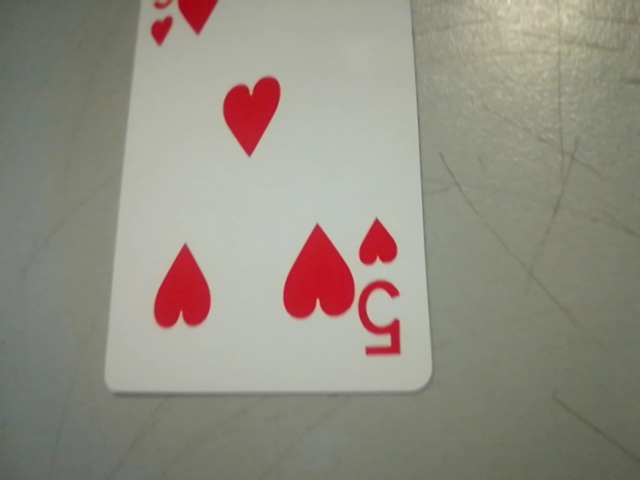hx 5: (347, 209, 418, 371)
